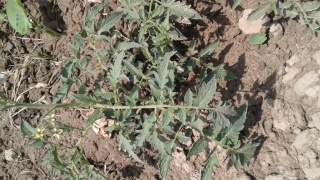tomato diseased leaf: (88, 115, 116, 142)
tomato flower: (30, 119, 68, 144), (30, 125, 46, 142), (49, 125, 65, 139)
tomato plant: (91, 2, 240, 161)
